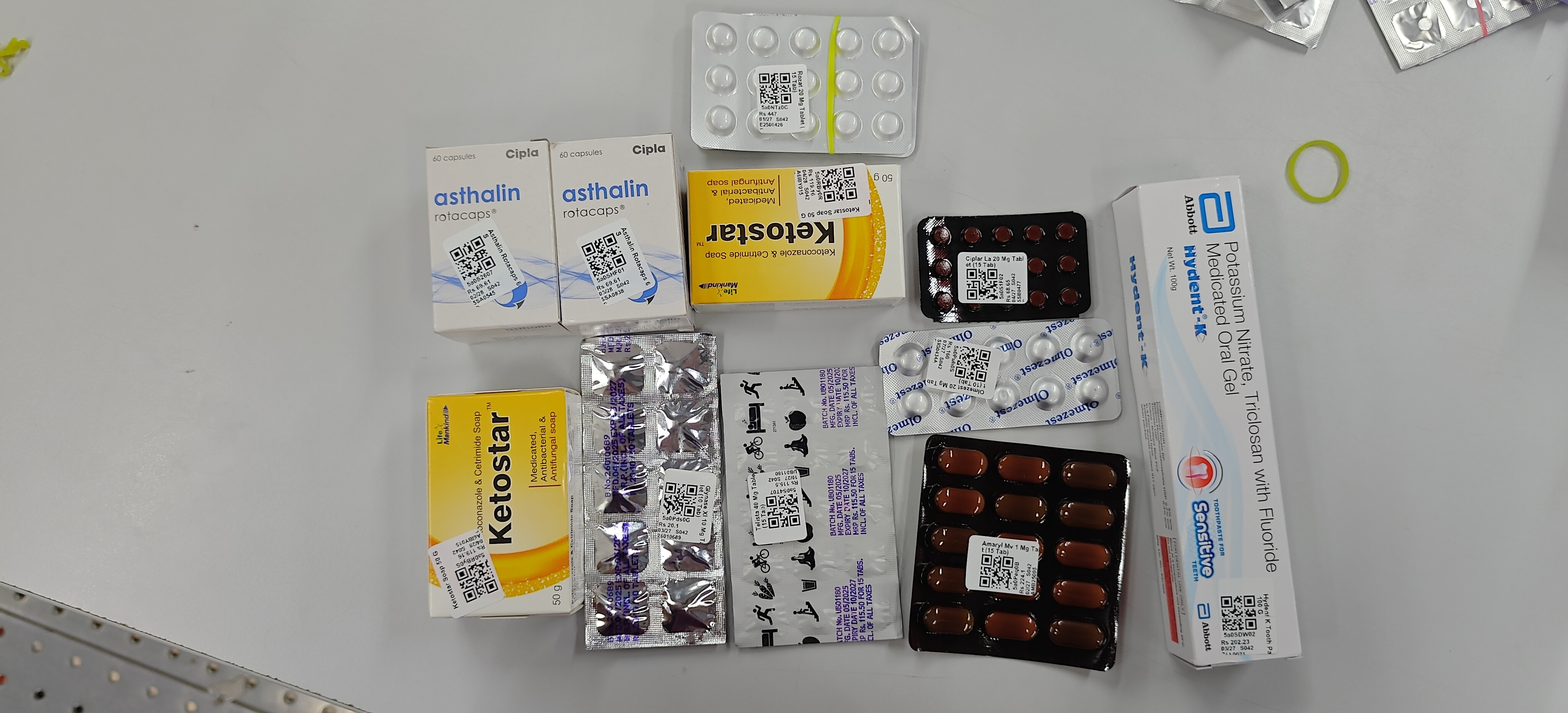qr_code: (455, 557, 498, 603), (954, 345, 990, 382), (758, 72, 791, 104)
